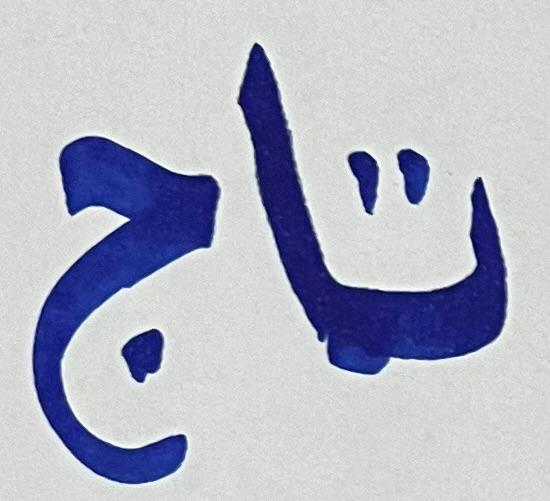alef: (227, 32, 329, 352)
kaf: (25, 109, 223, 487)
teh_marbota: (340, 135, 517, 381)
